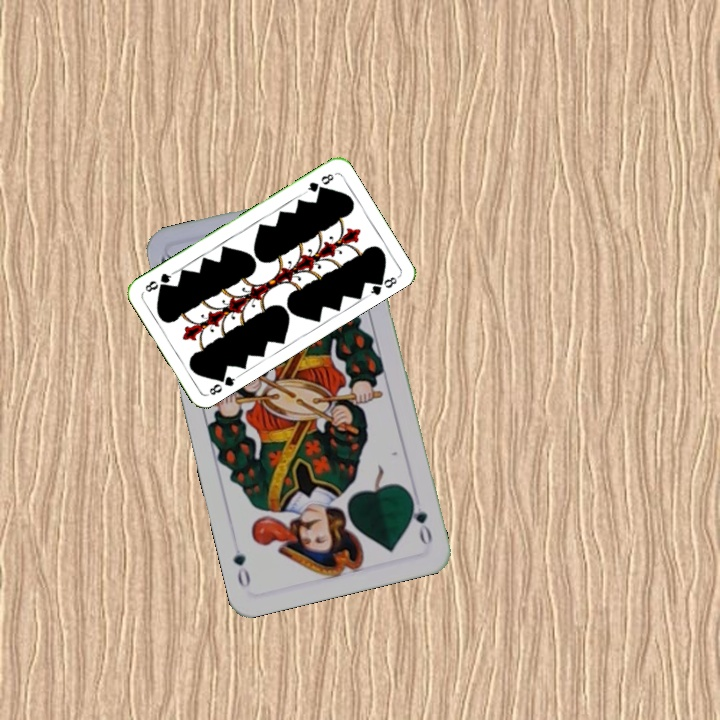G8: (204, 369, 241, 398), (301, 169, 336, 196)
GO: (406, 491, 435, 548)
